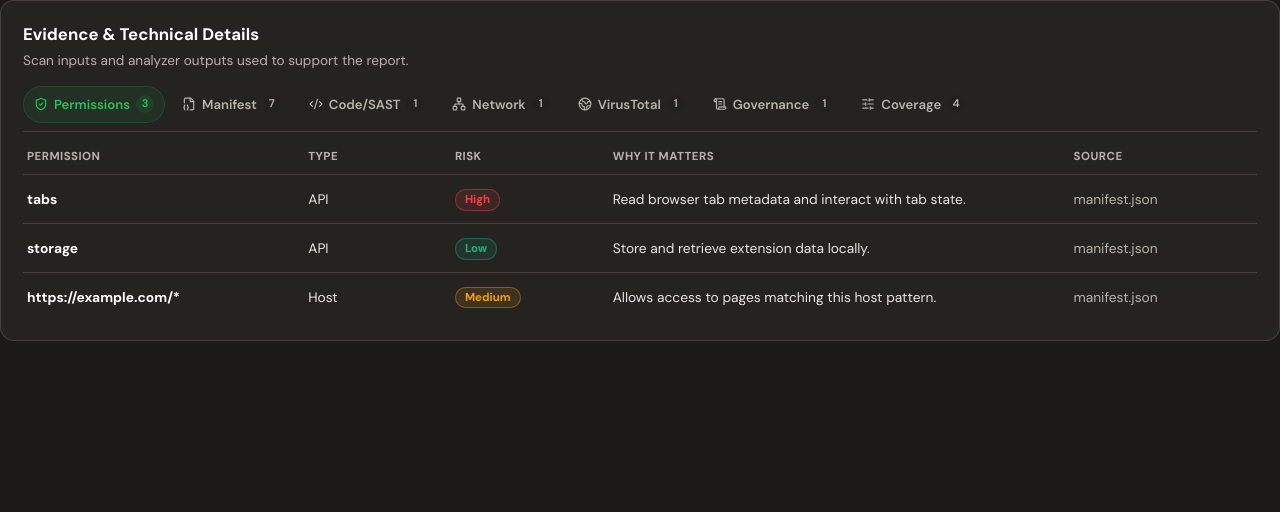
Test: EvidenceTechnicalDetails › renders manifest, CSP, host, and content script fields
Click the tab "Manifest 7" at (231, 104), box [171,86,292,123]
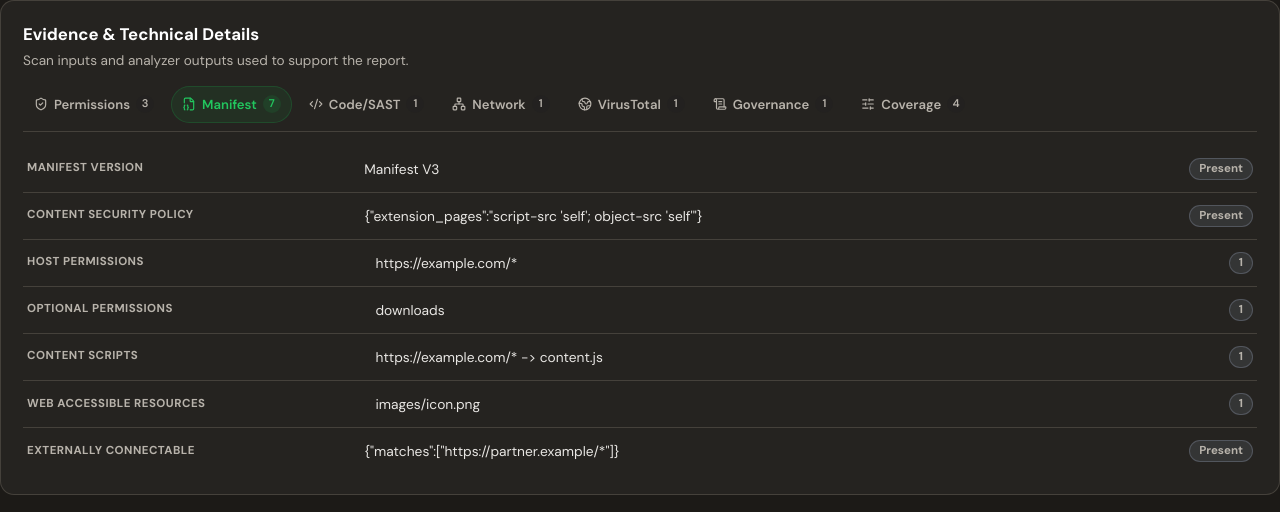
Result: the text "Manifest V3" is shown at [364,160,439,178]
Result: the text "{\"extension_pages\":\"script-src 'self'; object-src 'self'\"}" is shown at [364,207,702,225]
Result: the text "https://example.com/*" is shown at [376,254,517,272]
